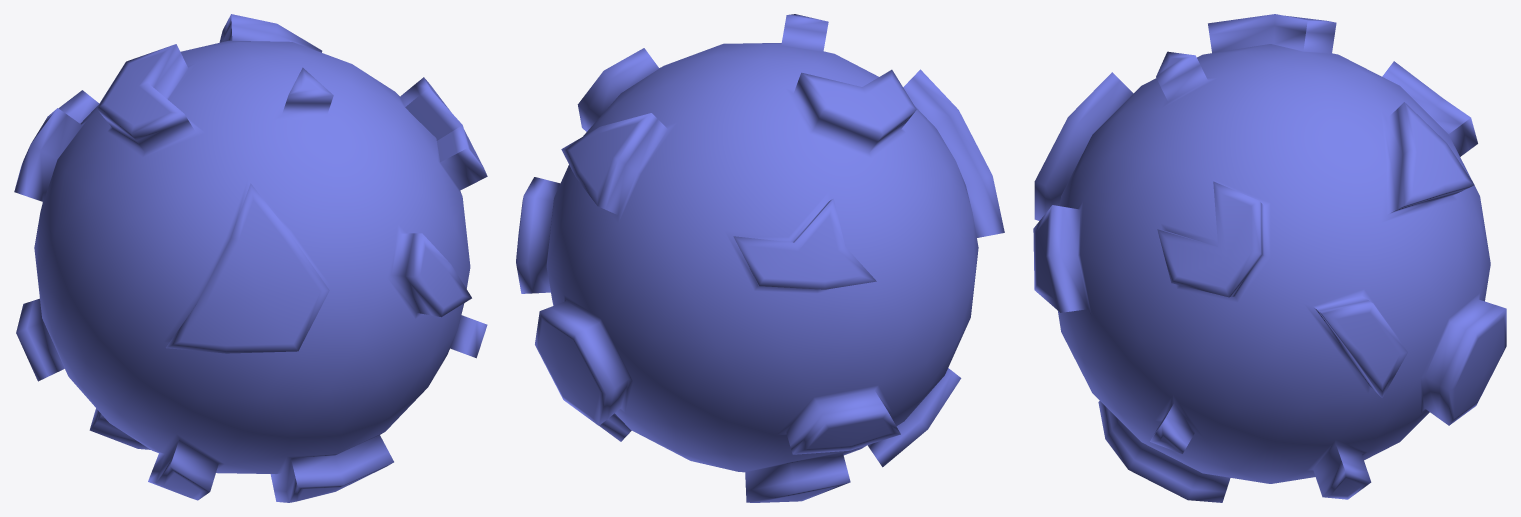
The model's file is sm_planete2.fbx.
3 views of the same model, side by side, from view 1: azimuth 30°, elevation 25°; view 2: azimuth 150°, elevation 25°; view 3: azimuth 270°, elevation 25° (orthographic).
Visible parts, largest first — view 1: sm_planete2; view 2: sm_planete2; view 3: sm_planete2.
Part boxes in pixels (x1=…): sm_planete2: x1=14, y1=14, x2=487, y2=502; sm_planete2: x1=516, y1=14, x2=1004, y2=502; sm_planete2: x1=1033, y1=14, x2=1506, y2=502.
Size of the model in its own units: 208 by 217 by 215.
